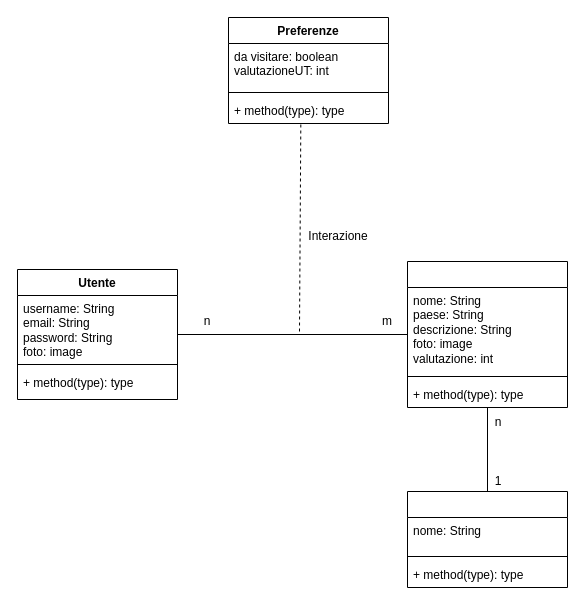
Image size: 585x608. Some labels were removed from this diagram. The shapes that lost their labels are listed below. From the top down, each one's box as (x1, y1, x2, y2) in pixels, then its label:
(406, 260, 568, 408): Città
(406, 490, 568, 588): Paese
